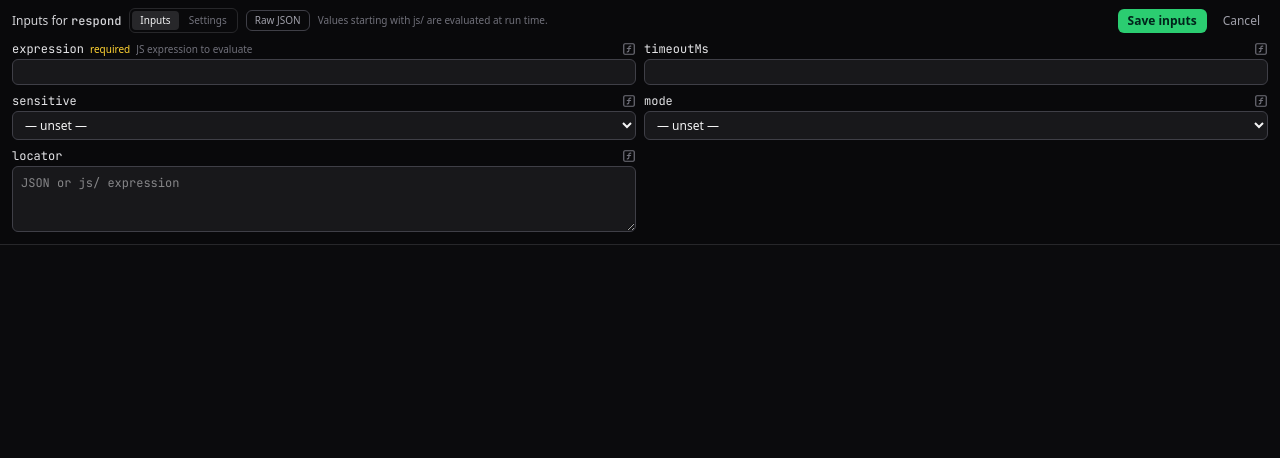
Scenario: Settings tab › switches to the Settings tab and shows the reliability/state fields
The width and height of the screenshot is (1280, 458).
Click the tab "Settings" at [208, 20], box [181, 11, 235, 30]
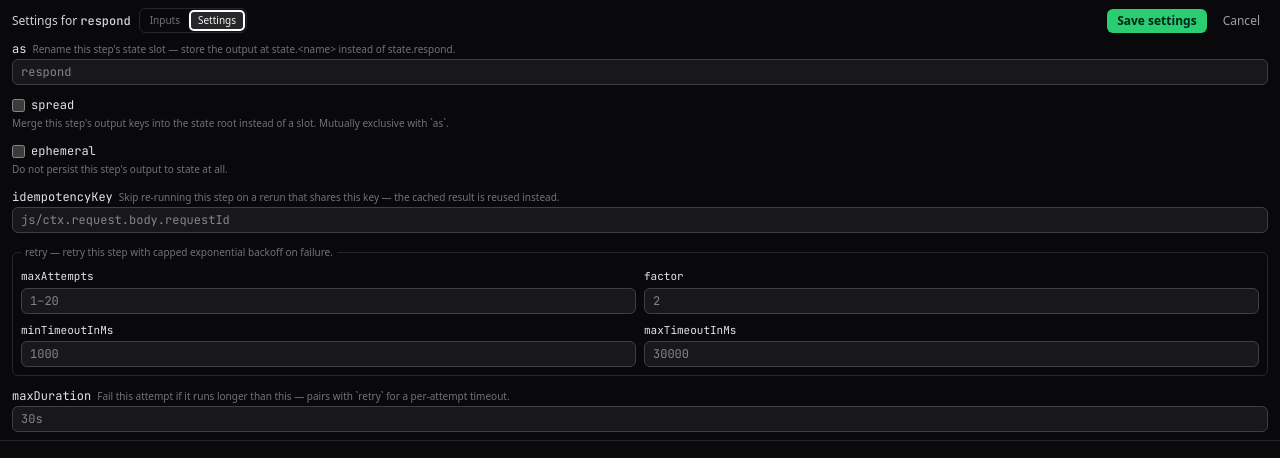
Expected: the field labelled "as" is shown, [12, 59, 1268, 85]
Expected: the checkbox labelled "spread" is shown, [12, 98, 25, 112]
Expected: the checkbox labelled "ephemeral" is shown, [12, 144, 25, 158]
